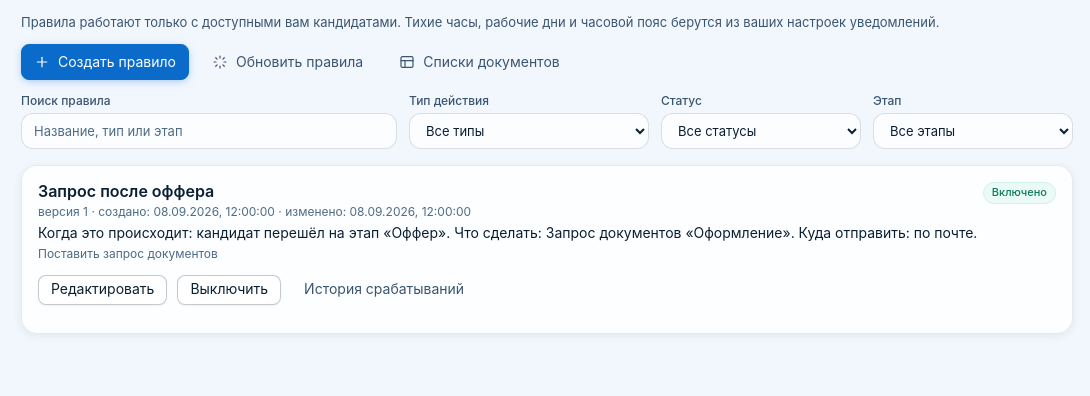
Scenario: Мои правила › resets all filters with a single action
This screenshot has width=1090, height=396.
Expected: the heading "Запрос после оффера" is shown, top-left (38, 181), bottom-right (214, 201)
Type "нет-такого" into the search field labelled "Поиск правила" at (209, 131), box top-left (21, 113), bottom-right (397, 149)
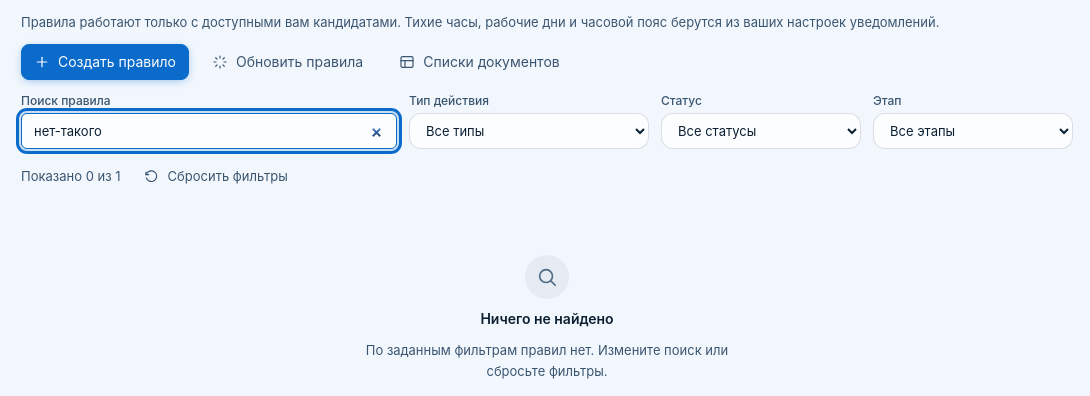
Expected: the text "Показано 0 из 1" is shown, top-left (21, 167), bottom-right (121, 186)
Click the button "Сбросить фильтры" at (216, 176), box top-left (131, 161), bottom-right (301, 191)
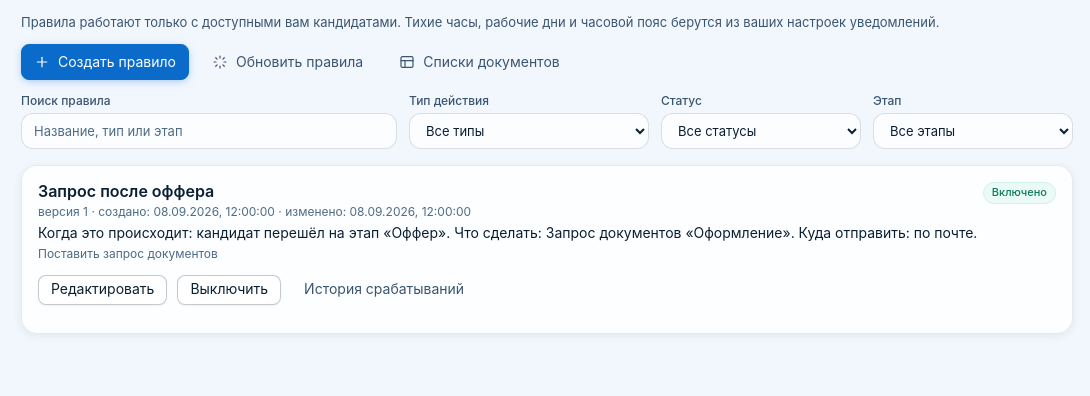
Expected: the heading "Запрос после оффера" is shown, top-left (38, 181), bottom-right (214, 201)
Expected: the text "Показано" is gone
